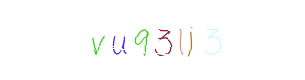3: (109, 0, 189, 80), (139, 0, 219, 80)
9: (86, 0, 166, 80)
J: (125, 0, 205, 80)
L: (112, 0, 192, 80)
U: (80, 0, 160, 80)
V: (79, 0, 159, 80)
